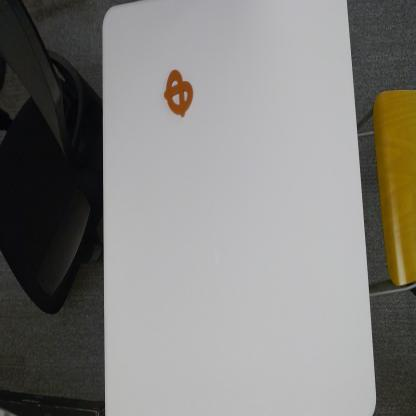Pretzel: (164, 65, 194, 121)
